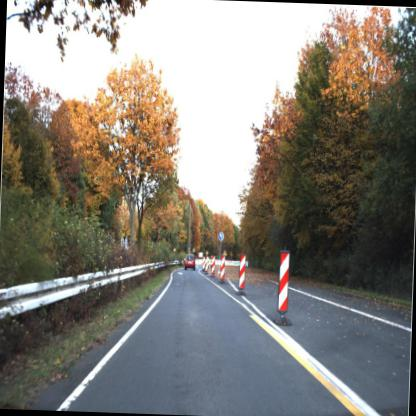mandatory: (218, 232, 226, 242)
